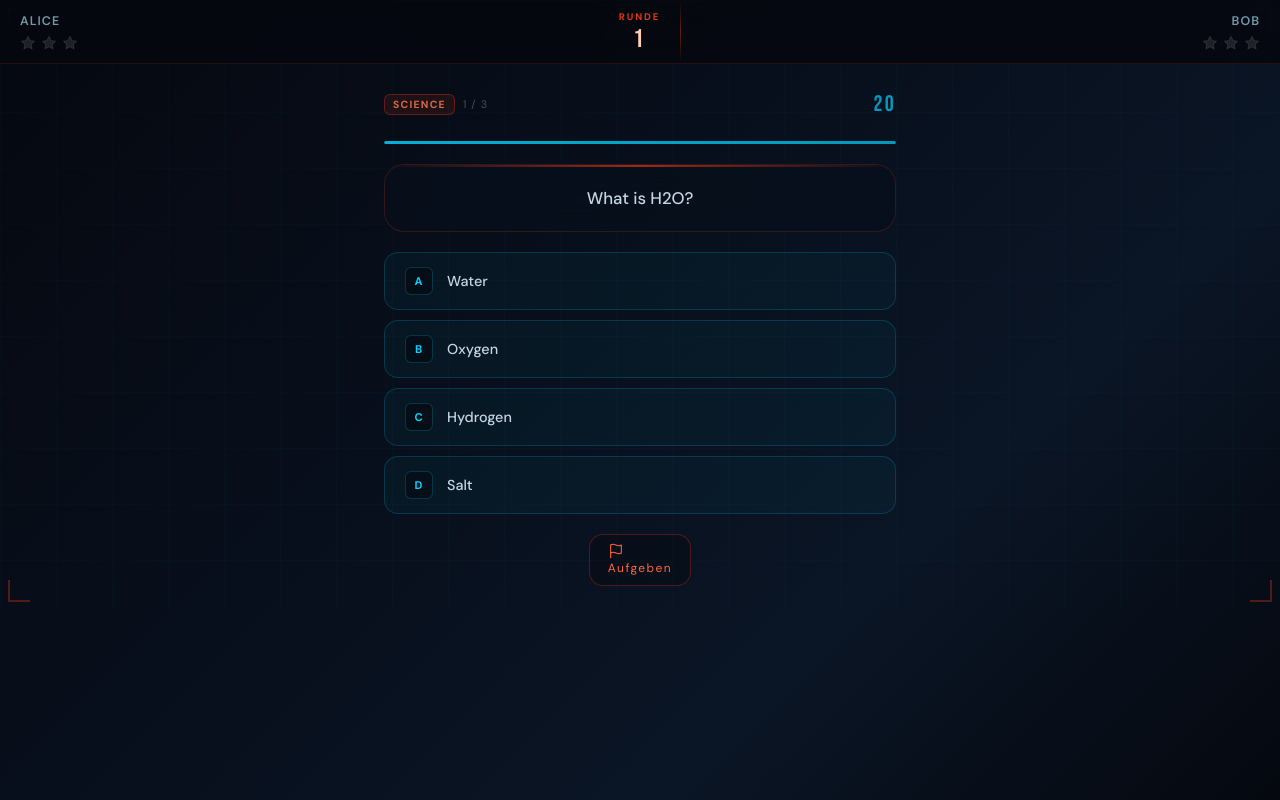
Test: Surrender › asks for confirmation and sends surrender only after confirming
This screenshot has width=1280, height=800.
Click the button "Aufgeben".
click(640, 560)  # box [589,534,691,586]
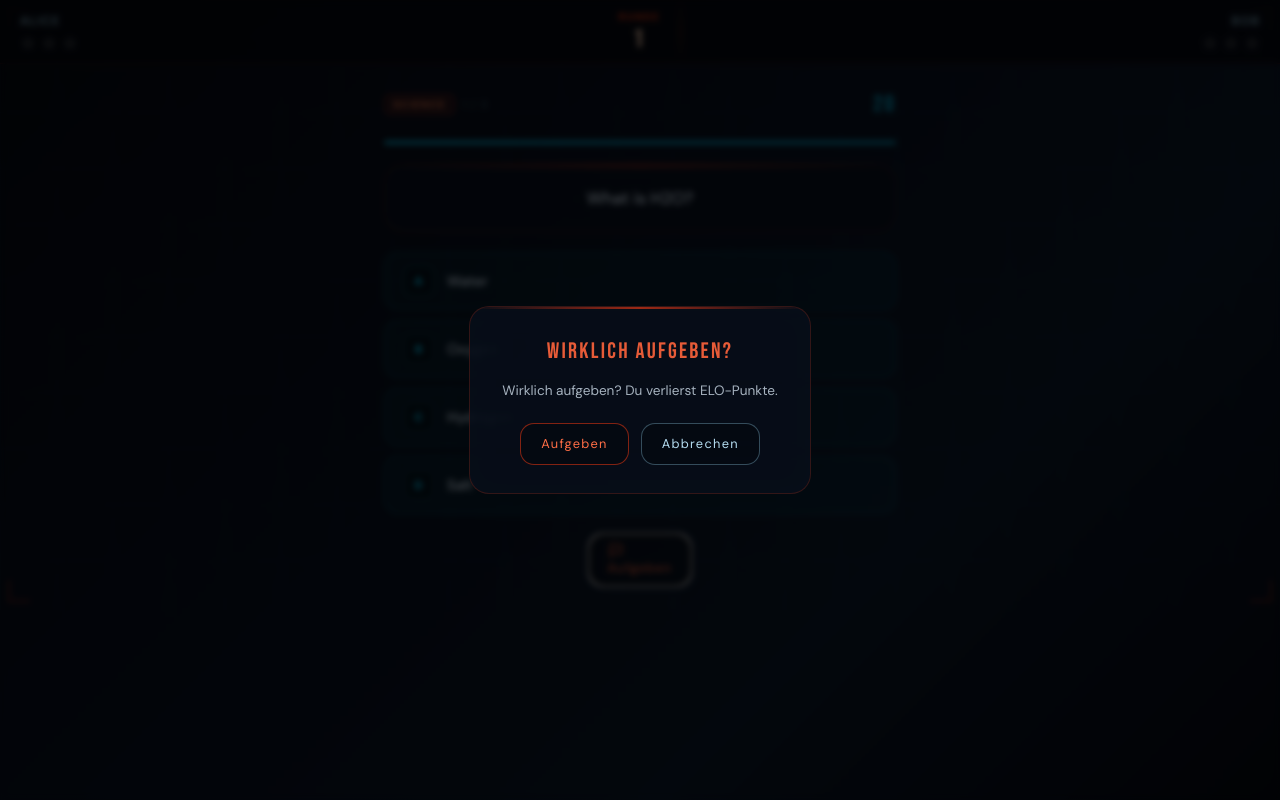
Expected: the dialog named "aufgeben bestätigen" is shown
Expected: the text "Wirklich aufgeben? Du verlierst ELO-Punkte." is shown, [502,381,778,401]
Click the button "Aufgeben".
click(574, 444)  # box [520,423,629,465]
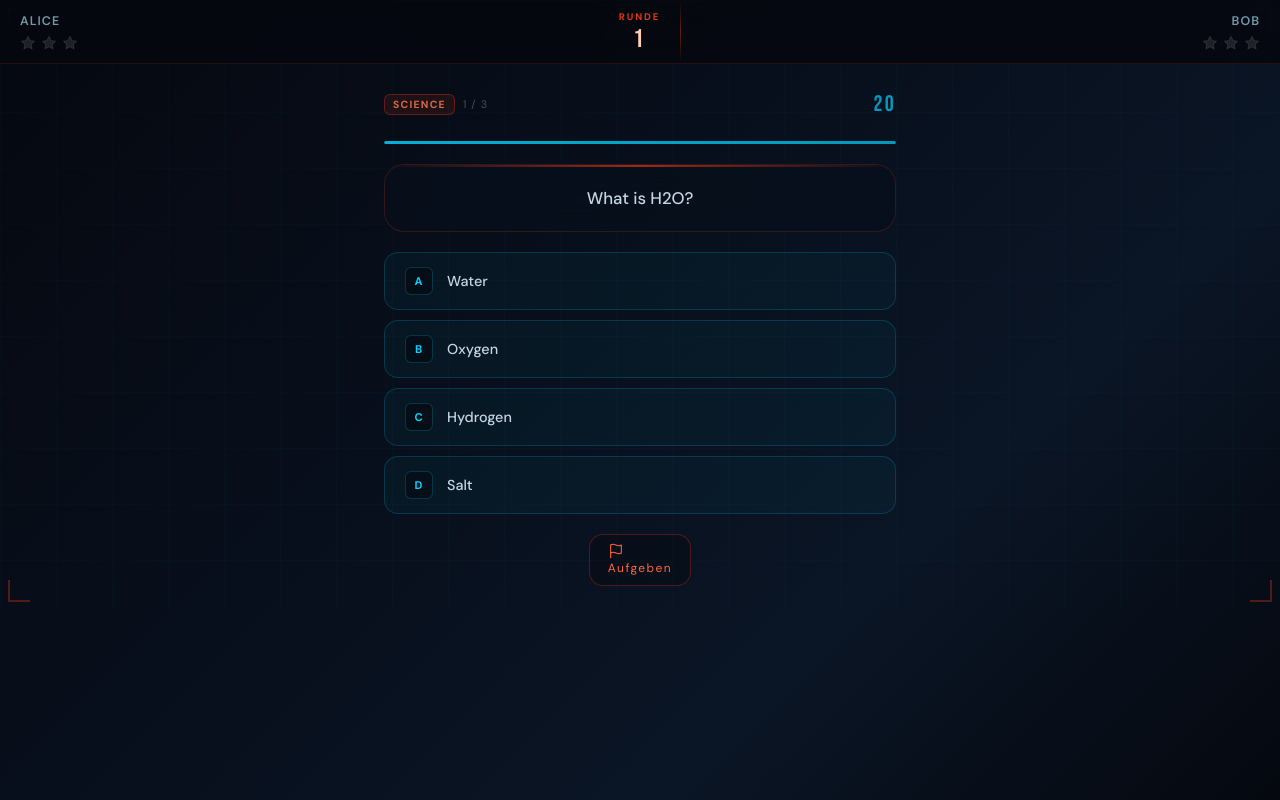
Expected: the dialog is gone
